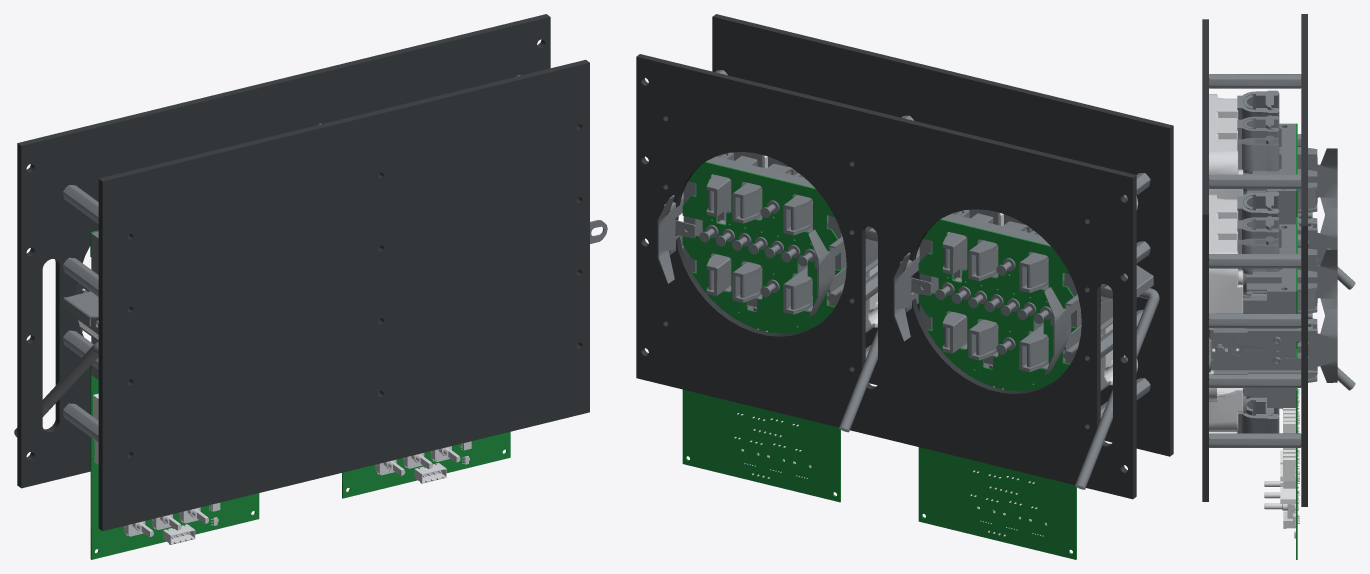
Rendered from socket-plate-mounted.glb.
3 views of the same model, side by side, from view 1: azimuth 30°, elevation 25°; view 2: azimuth 150°, elevation 25°; view 3: azimuth 270°, elevation 25° (orthographic). The views are drawn at different scales.
Bounding box in the file's own units: 0.4836 × 0.376 × 0.1475.
